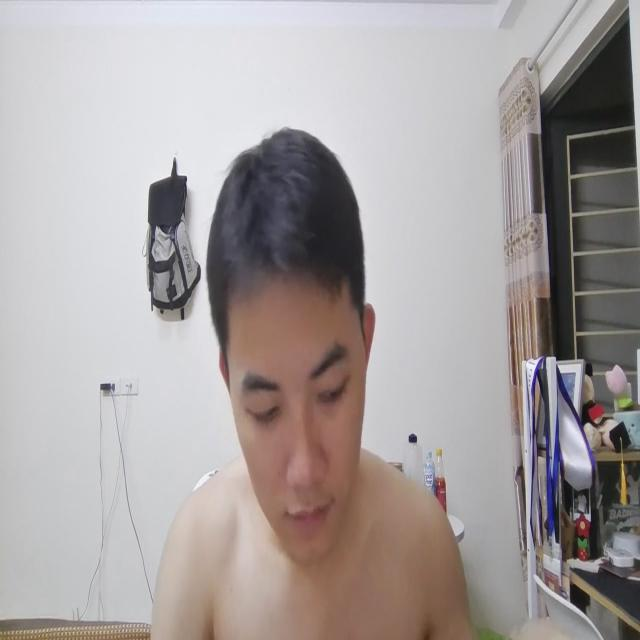student: (144, 132, 472, 640)
